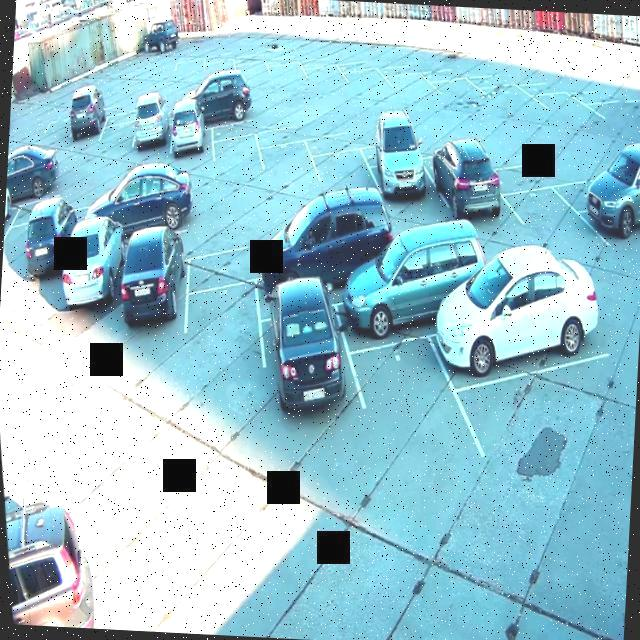car: (438, 259, 608, 374), (259, 275, 355, 439), (338, 243, 476, 349), (251, 206, 389, 312), (53, 215, 138, 322), (116, 244, 194, 356), (368, 113, 448, 220), (433, 142, 502, 235), (90, 173, 190, 230), (29, 204, 93, 293), (167, 76, 249, 134), (166, 102, 218, 187), (594, 171, 640, 259), (6, 140, 60, 202), (131, 94, 174, 167), (68, 88, 107, 162), (2, 193, 22, 266)
free: (342, 304, 481, 490), (454, 342, 638, 478), (172, 277, 269, 406), (187, 233, 306, 300), (505, 184, 579, 273), (417, 120, 507, 180), (491, 143, 578, 200), (161, 210, 246, 260), (357, 116, 436, 167), (307, 112, 381, 166), (312, 145, 378, 204), (207, 99, 286, 144), (257, 135, 316, 195), (209, 131, 264, 194), (2, 206, 42, 286), (259, 106, 334, 148), (417, 47, 494, 87), (13, 182, 76, 229), (486, 80, 540, 134), (562, 153, 609, 213), (573, 71, 640, 111), (518, 70, 588, 106), (536, 90, 592, 134), (380, 47, 450, 82), (429, 76, 489, 115), (336, 39, 402, 74), (338, 62, 393, 104), (300, 60, 349, 106), (468, 58, 532, 90), (98, 105, 140, 153), (597, 97, 640, 137), (262, 56, 305, 96), (388, 70, 436, 104), (172, 54, 208, 94), (46, 114, 80, 156), (232, 58, 270, 88), (204, 56, 238, 86)
